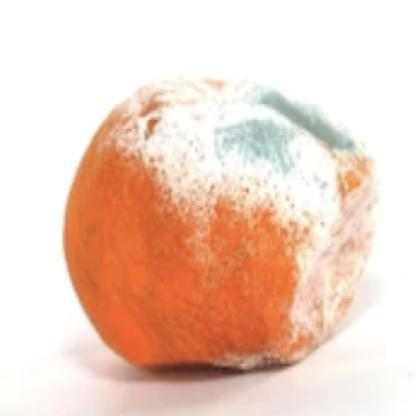rotten: (64, 77, 381, 376)
